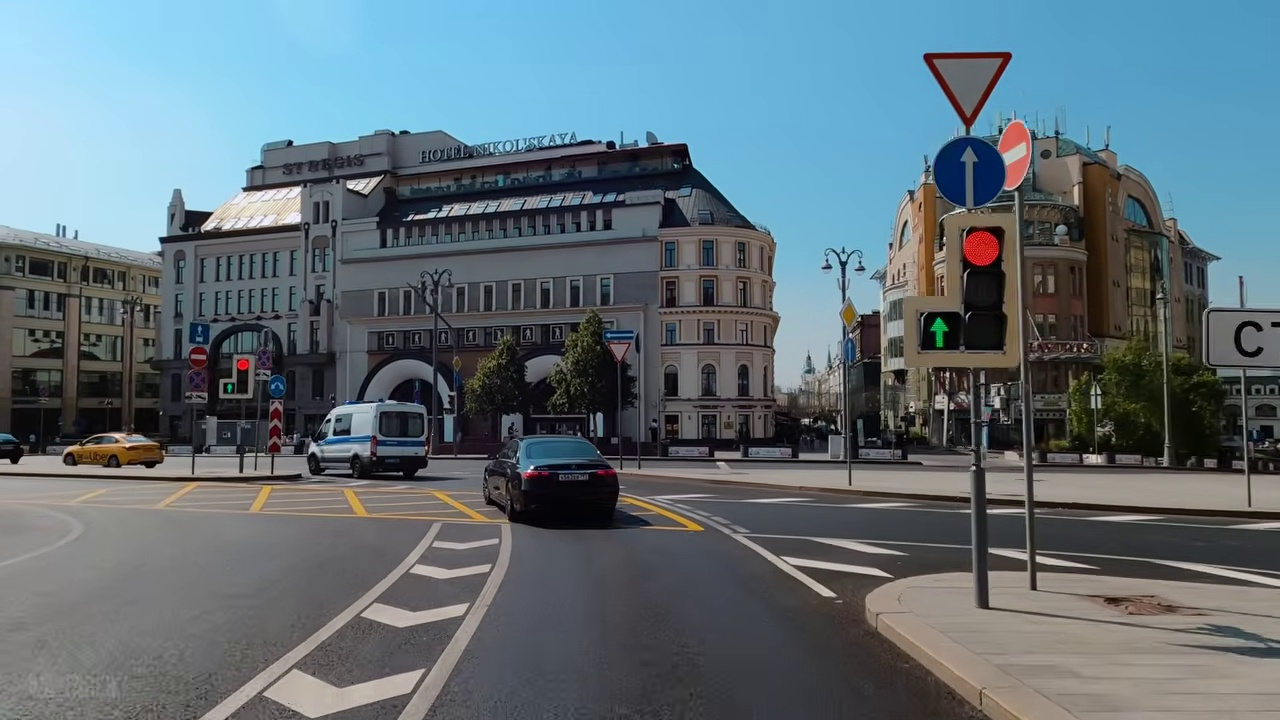apagada: (820, 247, 871, 282)
